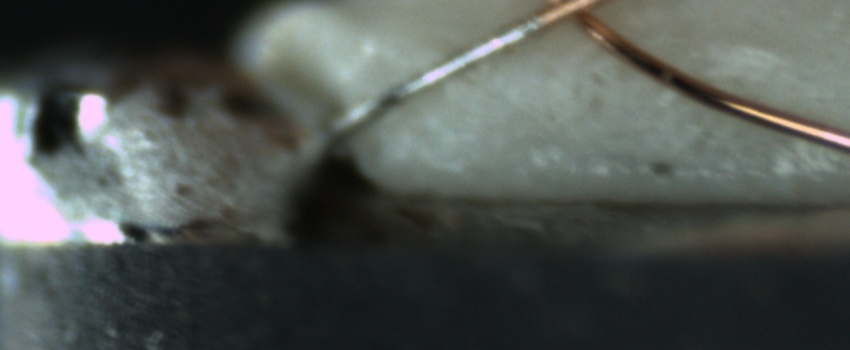CL: (531, 1, 619, 33)
TS: (331, 14, 542, 141)
